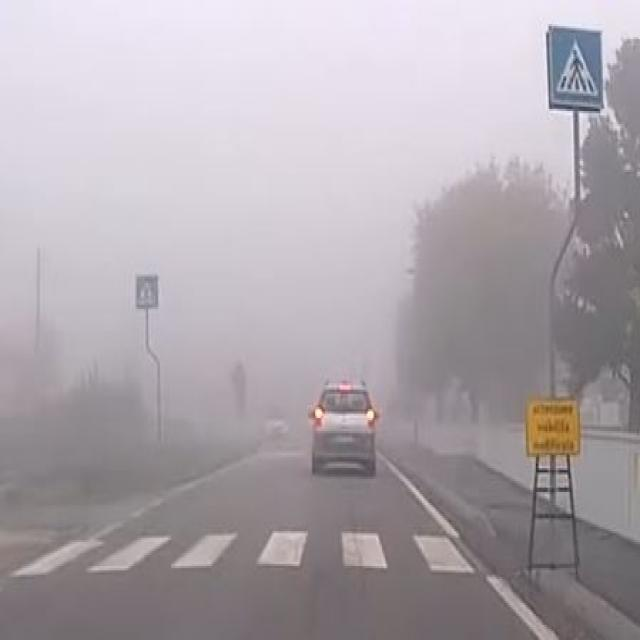Car: (304, 374, 382, 482)
Pedestrian crosswalk: (26, 528, 472, 578), (546, 22, 609, 113), (136, 272, 158, 310)
